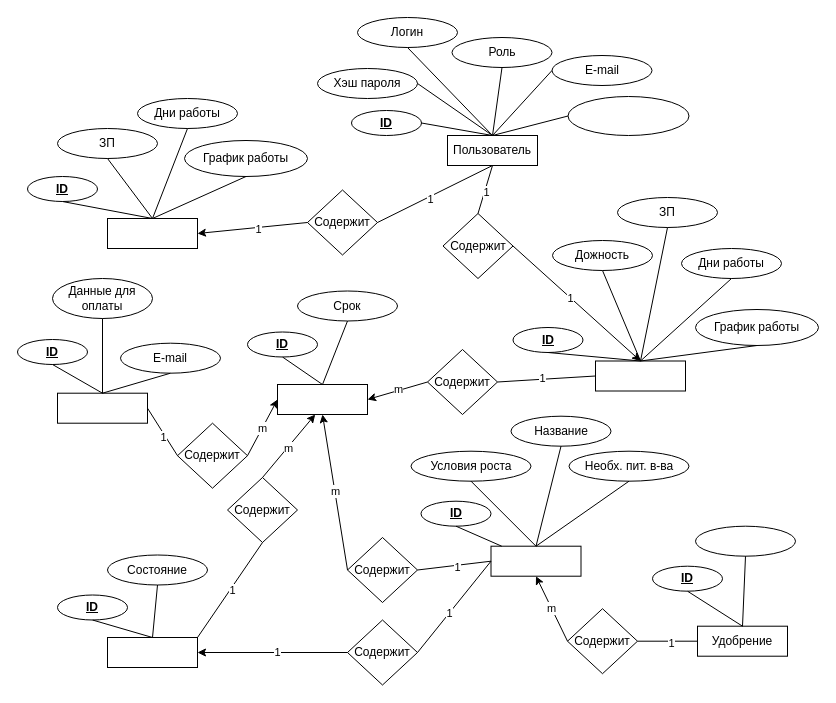
Some shapes in this 836 by 703 pixel diagram are drawn without their labels. The shapes that lost their labels are listed below. From the top down, each one's centre as x and y in pixels, then its label:
At [628,116]: "Номер телефона".
At [152,233]: "Агроном".
At [640,375]: "Работник".
At [102,407]: "Поставщик".
At [322,399]: "Заказ".
At [535,560]: "Растение".
At [745,540]: "Состав".
At [152,652]: "Грядка".
